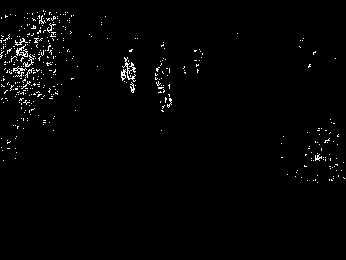person: (155, 58, 174, 112)
